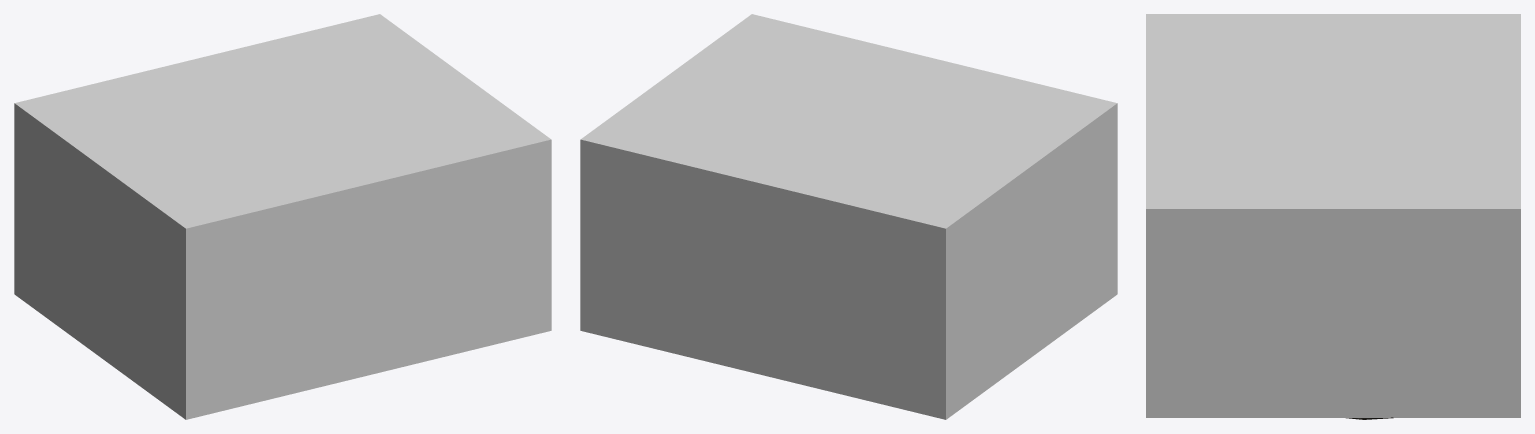
File: rubble_cache_closed.glb
3 renders of one model, left to right at view 1: azimuth 30°, elevation 25°; view 2: azimuth 150°, elevation 25°; view 3: azimuth 270°, elevation 25°, orthographic. The views are drawn at different scales.
Visible parts, largest first — view 1: col_click; view 2: col_click; view 3: col_click.
Part boxes in pixels (<box>): col_click: <box>14,14,551,419</box>; col_click: <box>580,14,1117,419</box>; col_click: <box>1146,14,1520,417</box>.
Bounding box in the file's own units: 1.6 × 0.8781 × 1.3.
4 materials, 4 textured.
